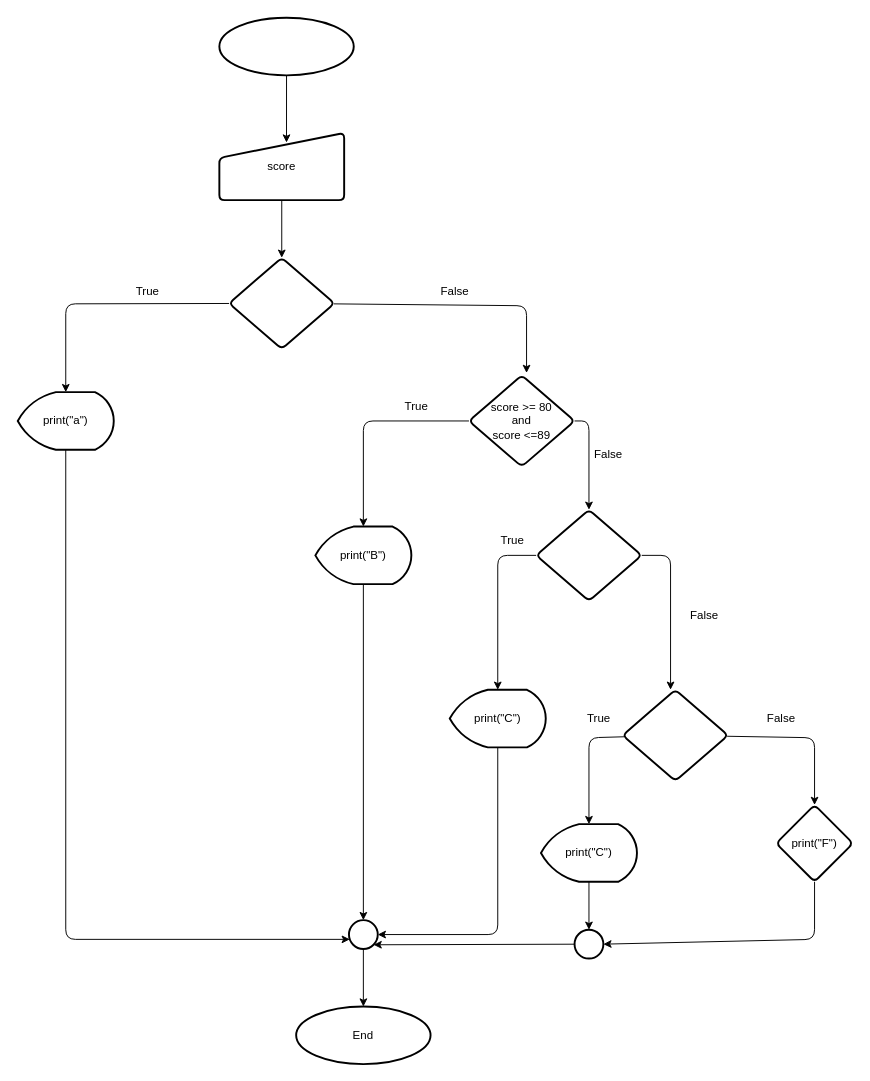
This 870x1081 diagram has some shape labels left out. The shapes that lost their labels are listed below. From the top down, each one's centre as x and y in pixels, then its label:
At (x=286, y=46): "start".
At (x=281, y=302): "score >= 90".
At (x=588, y=554): "score >= 70 and score <=79".
At (x=675, y=734): "score >= 60 and score <=69".
